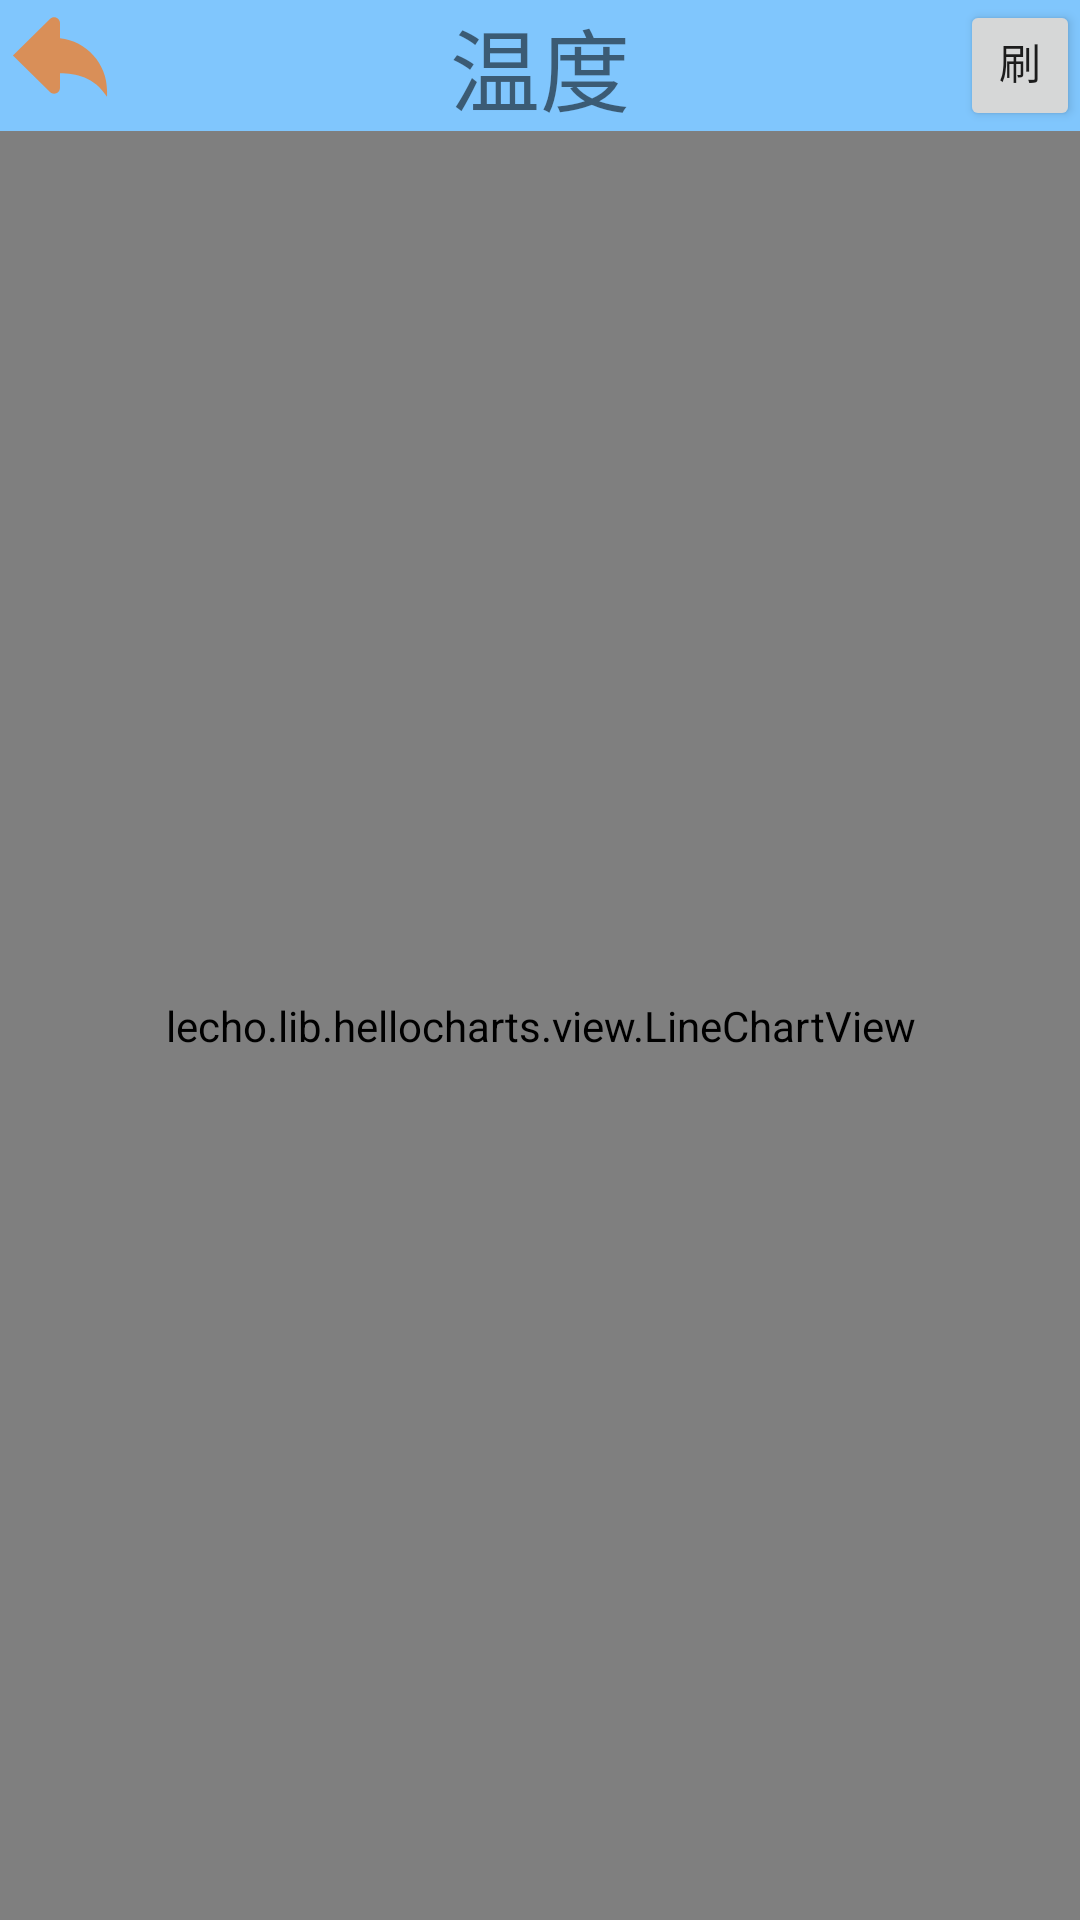

Locate icon controls on the screen. Image size 1080px×1920px, boxes as rect(x1, y1, x2, y2).
back: rect(13, 17, 107, 97)
